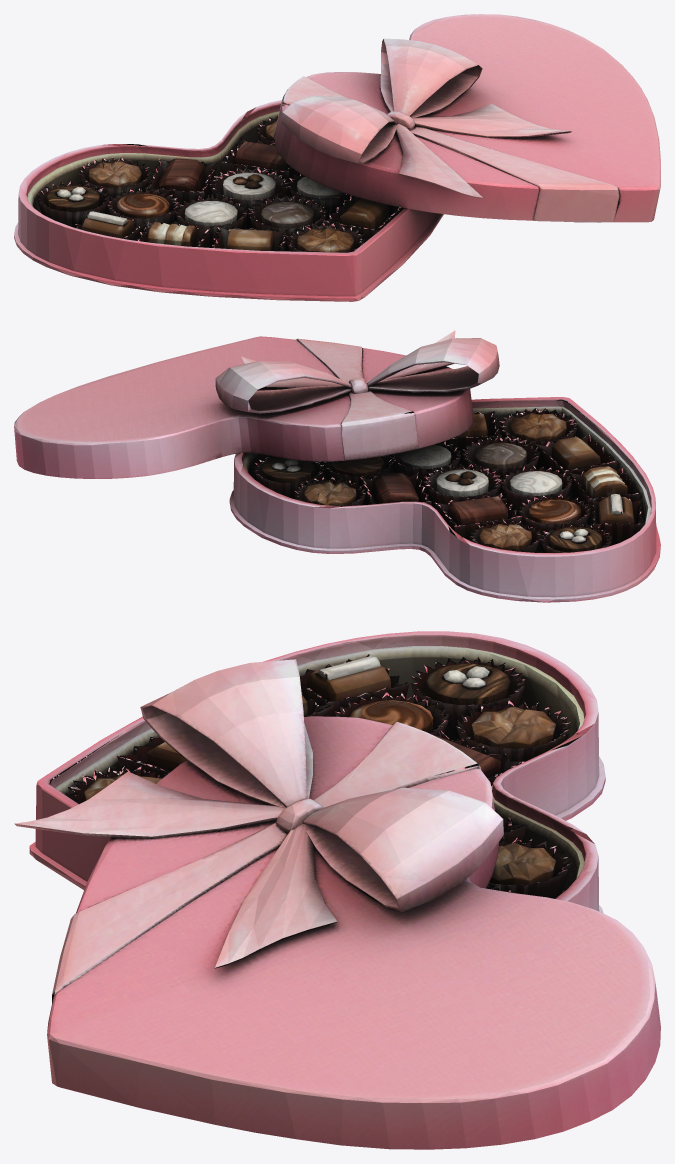
The model's file is chocolatebox_1k.glb.
The picture shows the model from 3 angles, top to bottom: view 1: azimuth 30°, elevation 25°; view 2: azimuth 150°, elevation 25°; view 3: azimuth 270°, elevation 25°; orthographic projection. The views are drawn at different scales.
Parts seen in each view (by area): view 1: Mesh1__auto__0; view 2: Mesh1__auto__0; view 3: Mesh1__auto__0.
Boxes of the visible parts, x1,y1,x2,y2 form: Mesh1__auto__0: [14, 14, 660, 301]; Mesh1__auto__0: [14, 330, 660, 602]; Mesh1__auto__0: [14, 631, 660, 1149].
Bounding box in the file's own units: 0.1809 × 0.0385 × 0.1067.
Materials: 1 (1 with a texture image).
